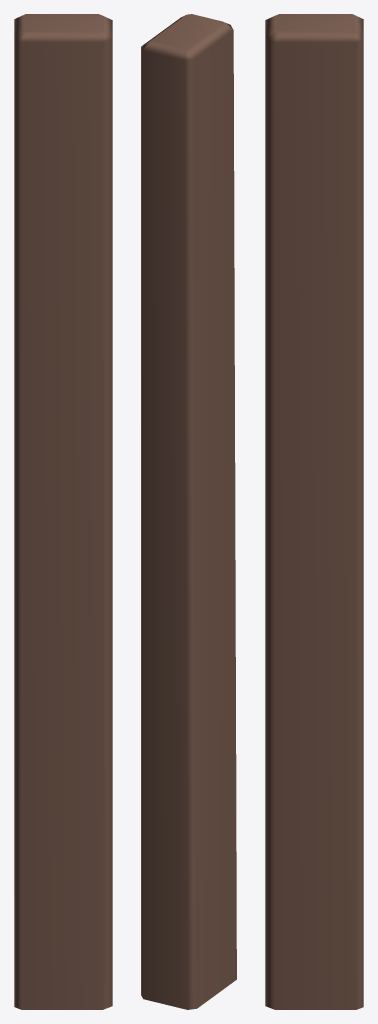
File: door_sides.gltf
3 renders of one model, left to right at view 1: azimuth 90°, elevation 25°; view 2: azimuth 150°, elevation 25°; view 3: azimuth 270°, elevation 25°, orthographic.
Parts seen in each view (by area): view 1: Cube.002; view 2: Cube.002; view 3: Cube.002.
Boxes of the visible parts, x1,y1,x2,y2 form: Cube.002: (14, 14, 112, 1009); Cube.002: (141, 14, 236, 1009); Cube.002: (265, 14, 363, 1009).
Bounding box in the file's own units: 0.2202 × 3.58 × 0.3288.
